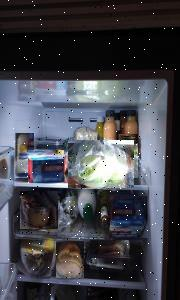Humus: (20, 192, 58, 230), (56, 240, 84, 279)
Leche: (77, 189, 97, 223)
Lechuga/Endivia: (68, 140, 134, 188), (74, 144, 130, 188)
Mayonesa: (15, 133, 34, 178)
Pan de sandwich: (74, 128, 96, 154)
Pina: (19, 238, 54, 276)
Queso: (90, 240, 131, 258)
Salsa de tomate: (118, 134, 138, 178)
Yogur: (109, 196, 148, 238), (29, 150, 65, 183)
